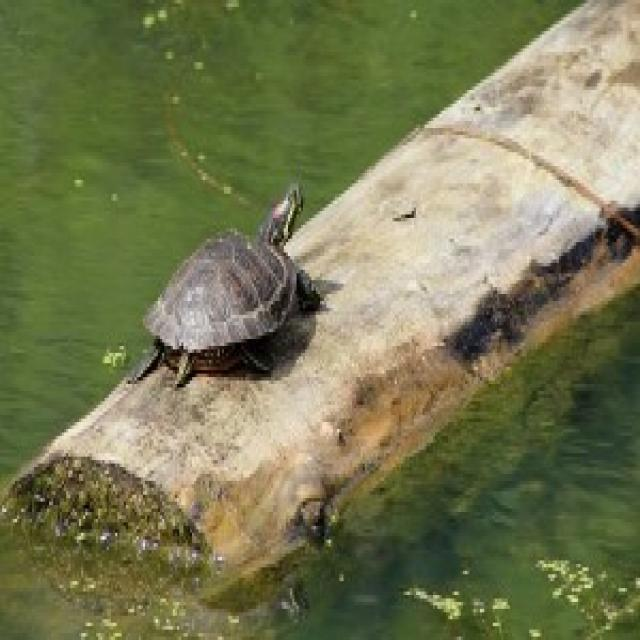Sea turtle: (131, 166, 322, 432)
